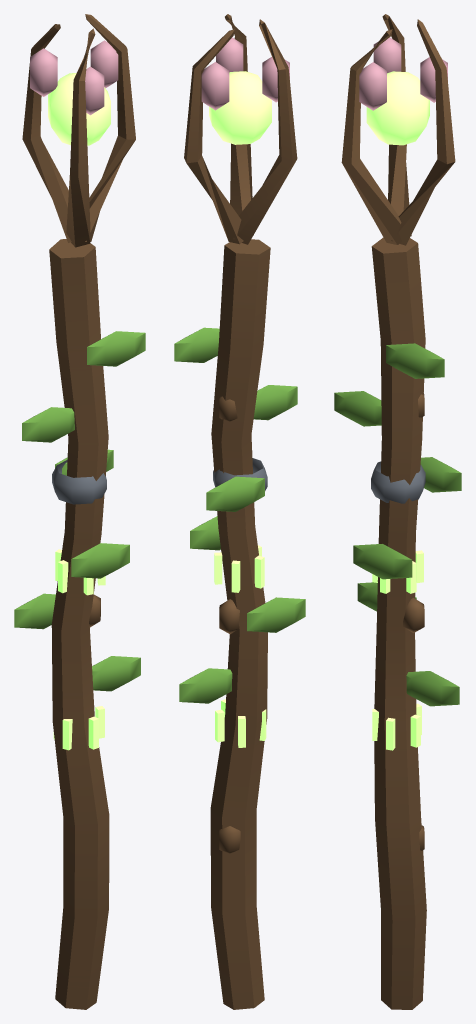
File: living-staff-3.glb
3 views of the same model, side by side, from view 1: azimuth 30°, elevation 25°; view 2: azimuth 210°, elevation 25°; view 3: azimuth 330°, elevation 25° (orthographic).
Visible parts, largest first — view 1: living-staff-3; view 2: living-staff-3; view 3: living-staff-3.
Boxes of the visible parts, x1,y1,x2,y2 form: living-staff-3: (14, 14, 145, 1009); living-staff-3: (174, 14, 305, 1009); living-staff-3: (334, 14, 461, 1009).
Bounding box in the file's own units: 0.115 × 0.8852 × 0.0922.
